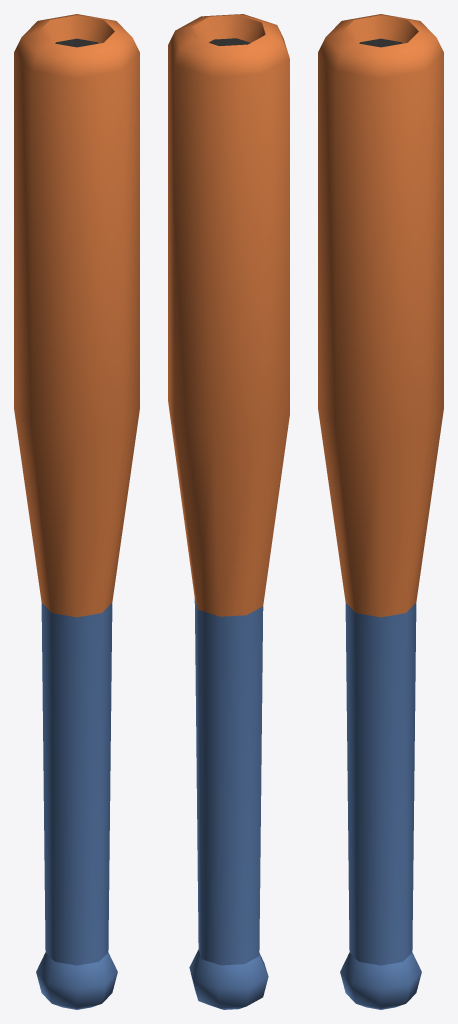
Rendered from BaseballBat_01.fbx.
The picture shows the model from 3 angles, left to right: view 1: azimuth 90°, elevation 25°; view 2: azimuth 210°, elevation 25°; view 3: azimuth 270°, elevation 25°; orthographic projection.
Parts seen in each view (by area): view 1: BaseballBat_01; view 2: BaseballBat_01; view 3: BaseballBat_01.
Part boxes in pixels (x1,y1,x2,y2): BaseballBat_01: (14, 14, 139, 1009); BaseballBat_01: (168, 14, 289, 1009); BaseballBat_01: (318, 14, 443, 1009).
Size of the model in its own units: 0.0901 by 0.7655 by 0.0901.
